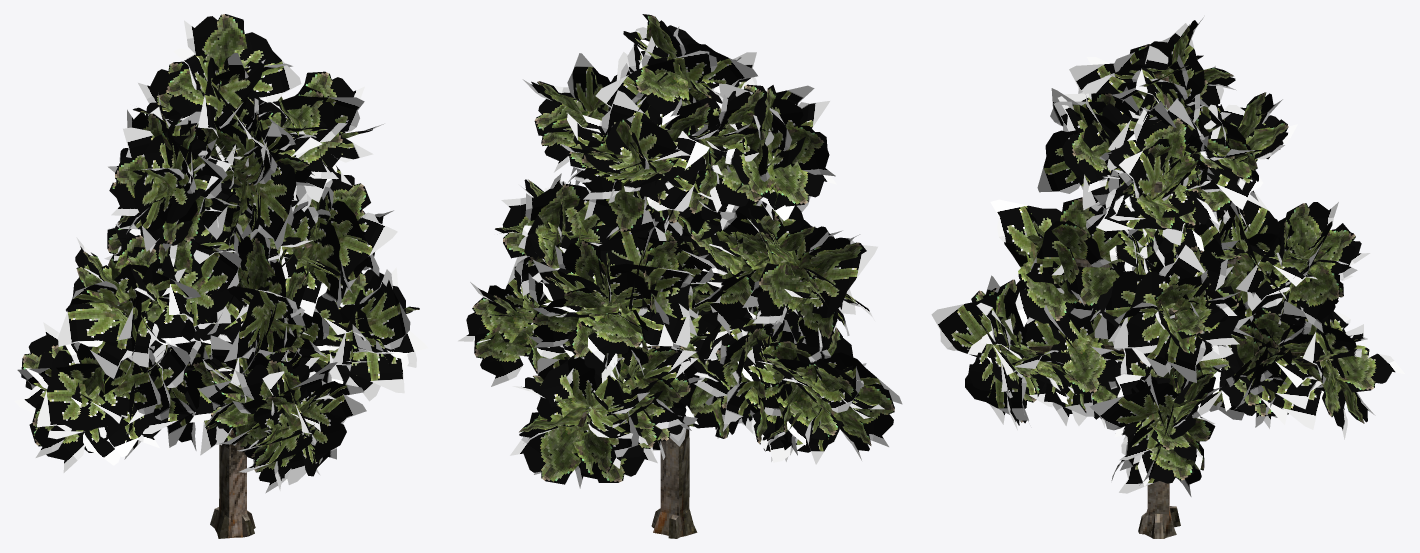
File: tree_3.fbx
The picture shows the model from 3 angles, left to right: view 1: azimuth 30°, elevation 25°; view 2: azimuth 150°, elevation 25°; view 3: azimuth 270°, elevation 25°; orthographic projection. The views are drawn at different scales.
Visible parts, largest first — view 1: Cube|leaves|Dupli|33, Cube, Cube|leaves|Dupli|78, Cube|leaves|Dupli|195, Cube|leaves|Dupli|32, Cube|leaves|Dupli|249, Cube|leaves|Dupli|57, Cube|leaves|Dupli|220, Cube|leaves|Dupli|188, Cube|leaves|Dupli|114, Cube|leaves|Dupli|, Cube|leaves|Dupli|221 (+88 smaller); view 2: Cube|leaves|Dupli|251, Cube, Cube|leaves|Dupli|153, Cube|leaves|Dupli|150, Cube|leaves|Dupli|165, Cube|leaves|Dupli|194, Cube|leaves|Dupli|54, Cube|leaves|Dupli|299, Cube|leaves|Dupli|177, Cube|leaves|Dupli|178, Cube|leaves|Dupli|60, Cube|leaves|Dupli|207 (+82 smaller); view 3: Cube|leaves|Dupli|219, Cube|leaves|Dupli|275, Cube|leaves|Dupli|210, Cube|leaves|Dupli|, Cube|leaves|Dupli|77, Cube, Cube|leaves|Dupli|165, Cube|leaves|Dupli|207, Cube|leaves|Dupli|62, Cube|leaves|Dupli|129, Cube|leaves|Dupli|75, Cube|leaves|Dupli|264 (+77 smaller).
Part boxes in pixels (x1,y1,x2,y2): Cube|leaves|Dupli|33: (166,32,301,120); Cube: (114,81,312,538); Cube|leaves|Dupli|78: (235,360,346,484); Cube|leaves|Dupli|195: (58,277,189,346); Cube|leaves|Dupli|32: (184,14,277,123); Cube|leaves|Dupli|249: (232,161,296,250); Cube|leaves|Dupli|57: (336,267,408,393); Cube|leaves|Dupli|220: (234,232,297,356); Cube|leaves|Dupli|188: (103,235,177,367); Cube|leaves|Dupli|114: (37,350,77,431); Cube|leaves|Dupli|: (364,273,410,349); Cube|leaves|Dupli|221: (224,266,306,361); Cube|leaves|Dupli|251: (584,90,676,231); Cube: (576,110,821,538); Cube|leaves|Dupli|153: (510,368,638,484); Cube|leaves|Dupli|150: (537,358,616,488); Cube|leaves|Dupli|165: (533,271,669,347); Cube|leaves|Dupli|194: (752,236,855,323); Cube|leaves|Dupli|54: (474,300,541,386); Cube|leaves|Dupli|299: (631,25,720,125); Cube|leaves|Dupli|177: (532,268,649,362); Cube|leaves|Dupli|178: (598,210,697,348); Cube|leaves|Dupli|60: (458,297,568,358); Cube|leaves|Dupli|207: (515,184,581,296); Cube|leaves|Dupli|219: (990,199,1073,326); Cube|leaves|Dupli|275: (1096,107,1192,231); Cube|leaves|Dupli|210: (1113,271,1239,353); Cube|leaves|Dupli|: (1089,382,1215,442); Cube|leaves|Dupli|77: (931,295,1044,424); Cube: (1001,72,1338,538); Cube|leaves|Dupli|165: (1278,217,1339,332); Cube|leaves|Dupli|207: (1164,245,1227,382); Cube|leaves|Dupli|62: (1115,374,1200,486); Cube|leaves|Dupli|129: (1293,310,1404,392); Cube|leaves|Dupli|75: (1044,335,1122,393); Cube|leaves|Dupli|264: (1119,138,1173,266).
Bounding box in the file's own units: 4528 × 5478 × 4630.
